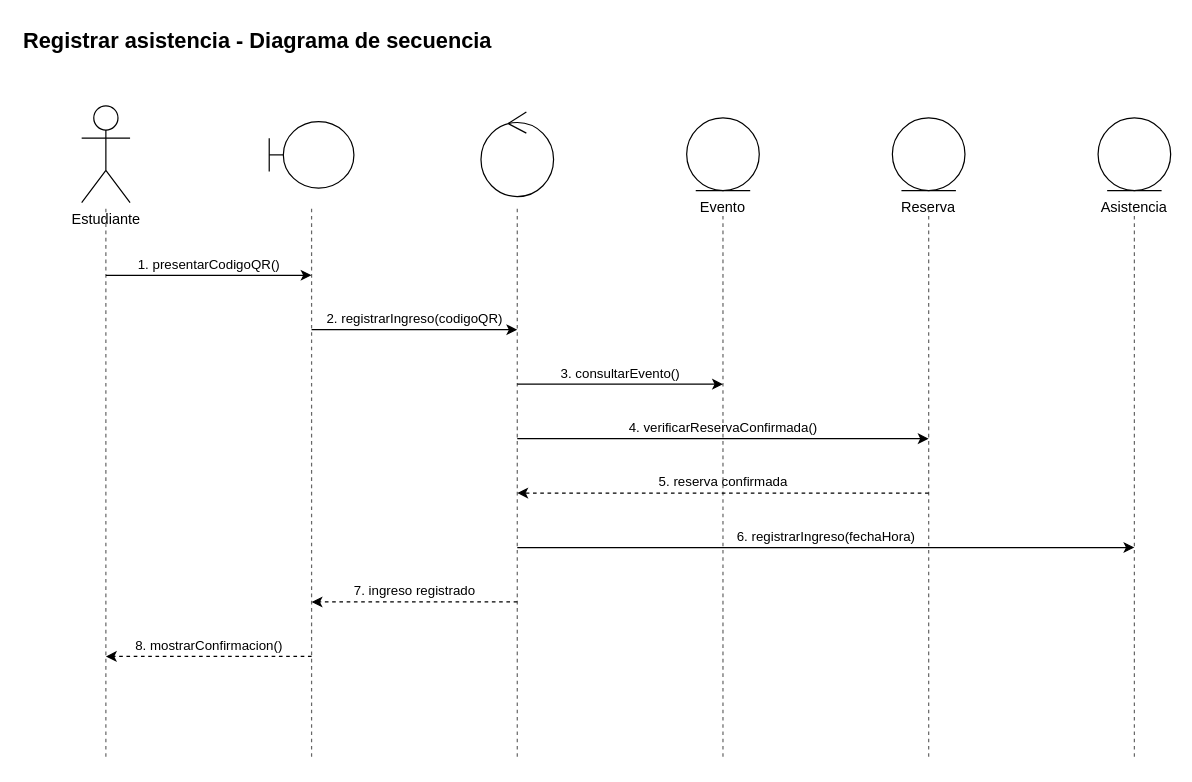
Image size: 1192x782. Some labels were removed from this diagram. Each missing label, with the box of its shape:
GestiónAsistencia: (480, 111, 554, 197)
PantallaEventos: (268, 120, 354, 188)
